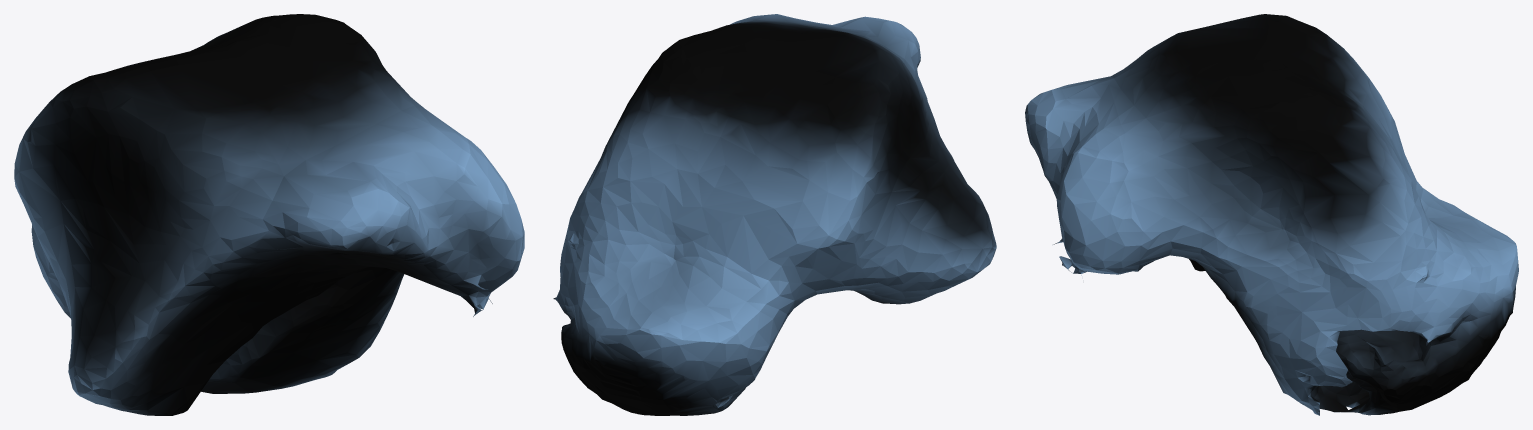
Rendered from Geometry2_lao.dae.
The picture shows the model from 3 angles, left to right: view 1: azimuth 30°, elevation 25°; view 2: azimuth 150°, elevation 25°; view 3: azimuth 270°, elevation 25°; orthographic projection. The views are drawn at different scales.
Visible parts, largest first — view 1: node; view 2: node; view 3: node.
Boxes of the visible parts, left/top/right/bottom form: node: left=14, top=14, right=524, bottom=415; node: left=553, top=14, right=996, bottom=415; node: left=1025, top=14, right=1518, bottom=415.
Bounding box in the file's own units: 43.39 × 39.82 × 55.85.
